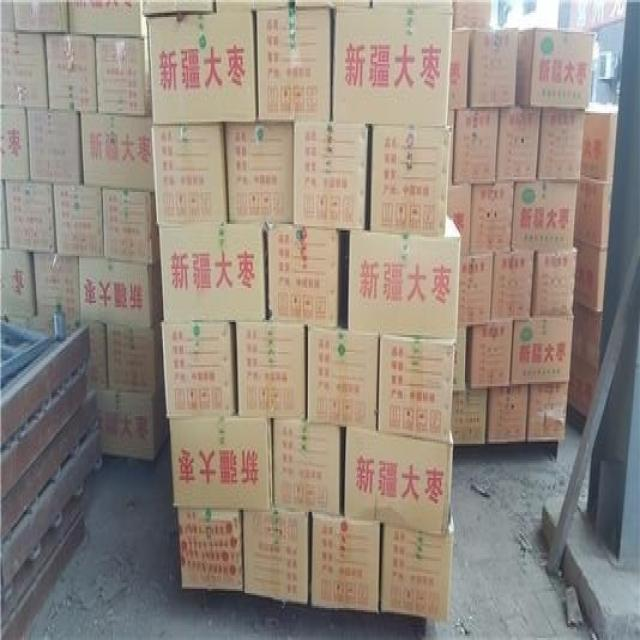box: (329, 7, 453, 128), (349, 216, 460, 337), (147, 13, 259, 127), (342, 425, 451, 533), (157, 224, 266, 326), (367, 123, 450, 236), (170, 416, 274, 506), (266, 224, 350, 326), (256, 7, 330, 122), (378, 327, 454, 438), (294, 122, 369, 228), (153, 122, 230, 225), (308, 324, 381, 429), (162, 322, 238, 421), (309, 510, 382, 609), (224, 122, 294, 224), (236, 320, 308, 418), (381, 524, 452, 621), (243, 504, 310, 605), (272, 419, 342, 515), (80, 110, 155, 191), (517, 29, 593, 108), (80, 254, 161, 325), (177, 504, 243, 591), (94, 391, 167, 458), (513, 180, 577, 253), (95, 35, 152, 115), (102, 186, 159, 263), (106, 323, 166, 395), (26, 109, 82, 184), (512, 318, 573, 386), (45, 33, 98, 111), (469, 28, 518, 108), (5, 180, 56, 253), (54, 182, 104, 256), (5, 30, 49, 110), (537, 108, 585, 181), (496, 108, 542, 184), (454, 108, 498, 185), (33, 251, 81, 320), (468, 320, 515, 389), (471, 183, 516, 255), (531, 249, 577, 318), (491, 251, 536, 321), (69, 1, 148, 39), (526, 382, 570, 441), (459, 255, 494, 325), (488, 386, 530, 443), (4, 248, 36, 317), (453, 389, 489, 445), (13, 1, 70, 34), (5, 106, 29, 180), (449, 29, 470, 110), (448, 186, 472, 255), (453, 325, 469, 392), (449, 110, 456, 186)
